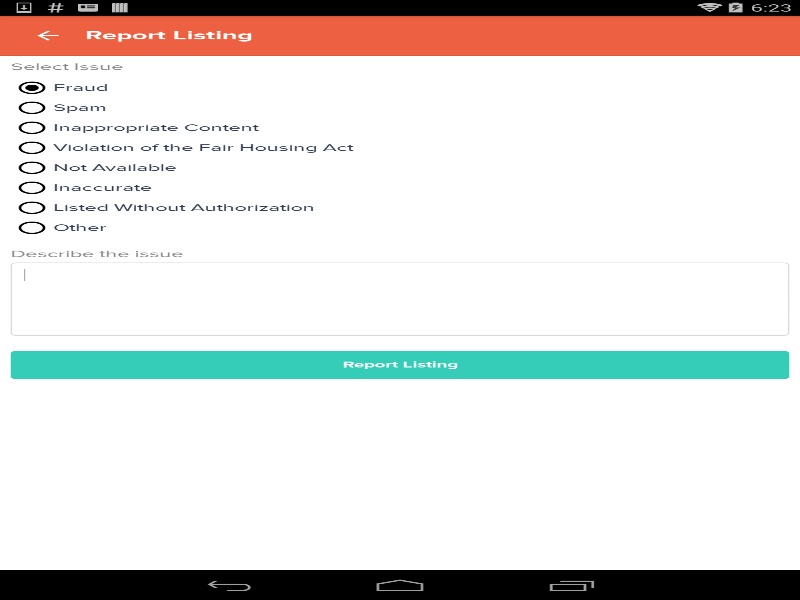Button: (10, 350, 789, 379), (10, 15, 85, 55)
Input: (10, 262, 789, 335)
